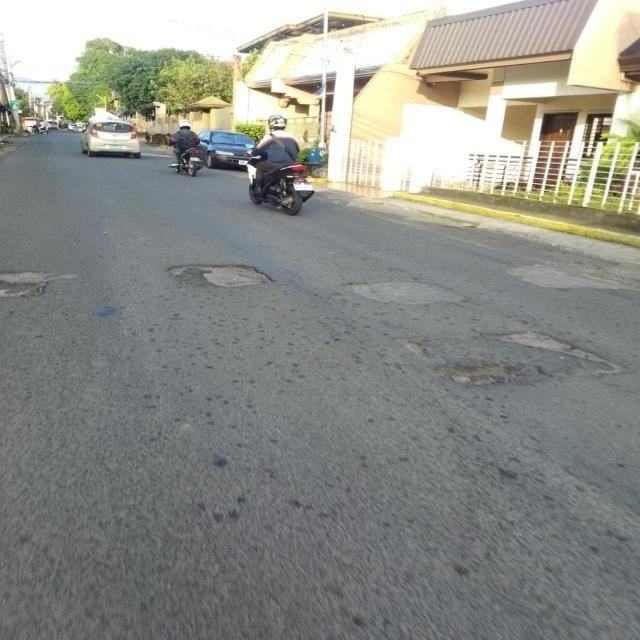pothole: (346, 268, 630, 402), (144, 257, 288, 303)
